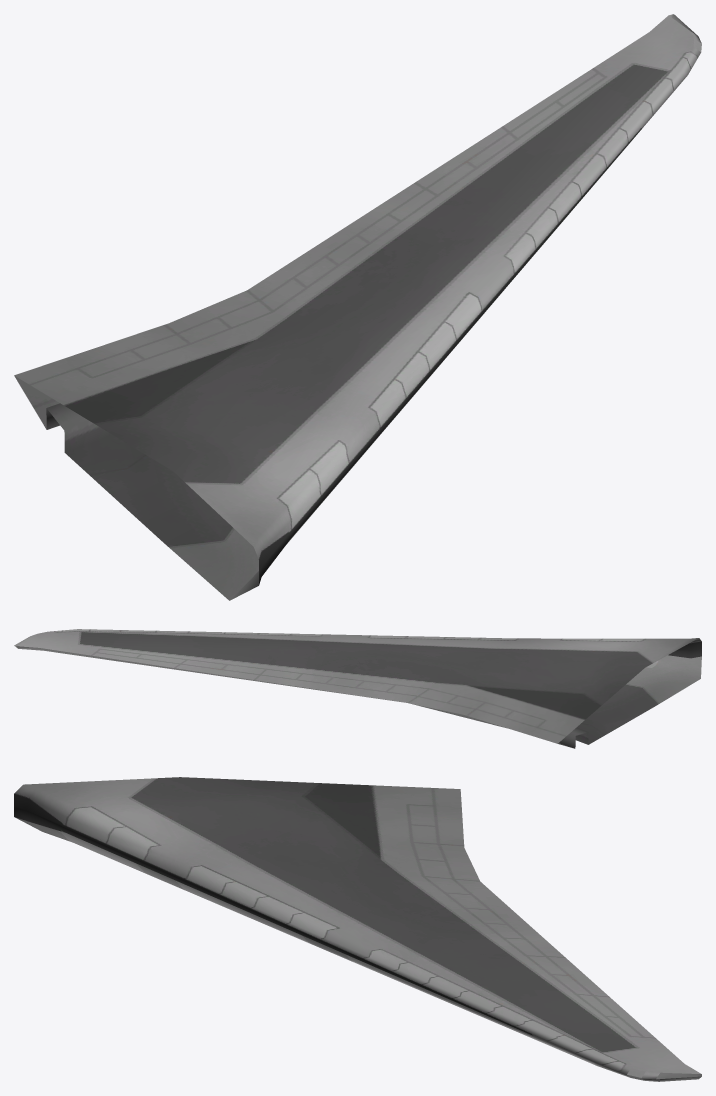
Rendered from Wing1 1.fbx.
The picture shows the model from 3 angles, top to bottom: view 1: azimuth 30°, elevation 25°; view 2: azimuth 150°, elevation 25°; view 3: azimuth 270°, elevation 25°; orthographic projection. The views are drawn at different scales.
Parts seen in each view (by area): view 1: wing; view 2: wing; view 3: wing.
Part boxes in pixels (x1=…): wing: x1=14, y1=14, x2=701, y2=600; wing: x1=14, y1=629, x2=701, y2=748; wing: x1=14, y1=777, x2=701, y2=1081.
Size of the model in its own units: 3183 by 475 by 2582.
1 material, 1 textured.
